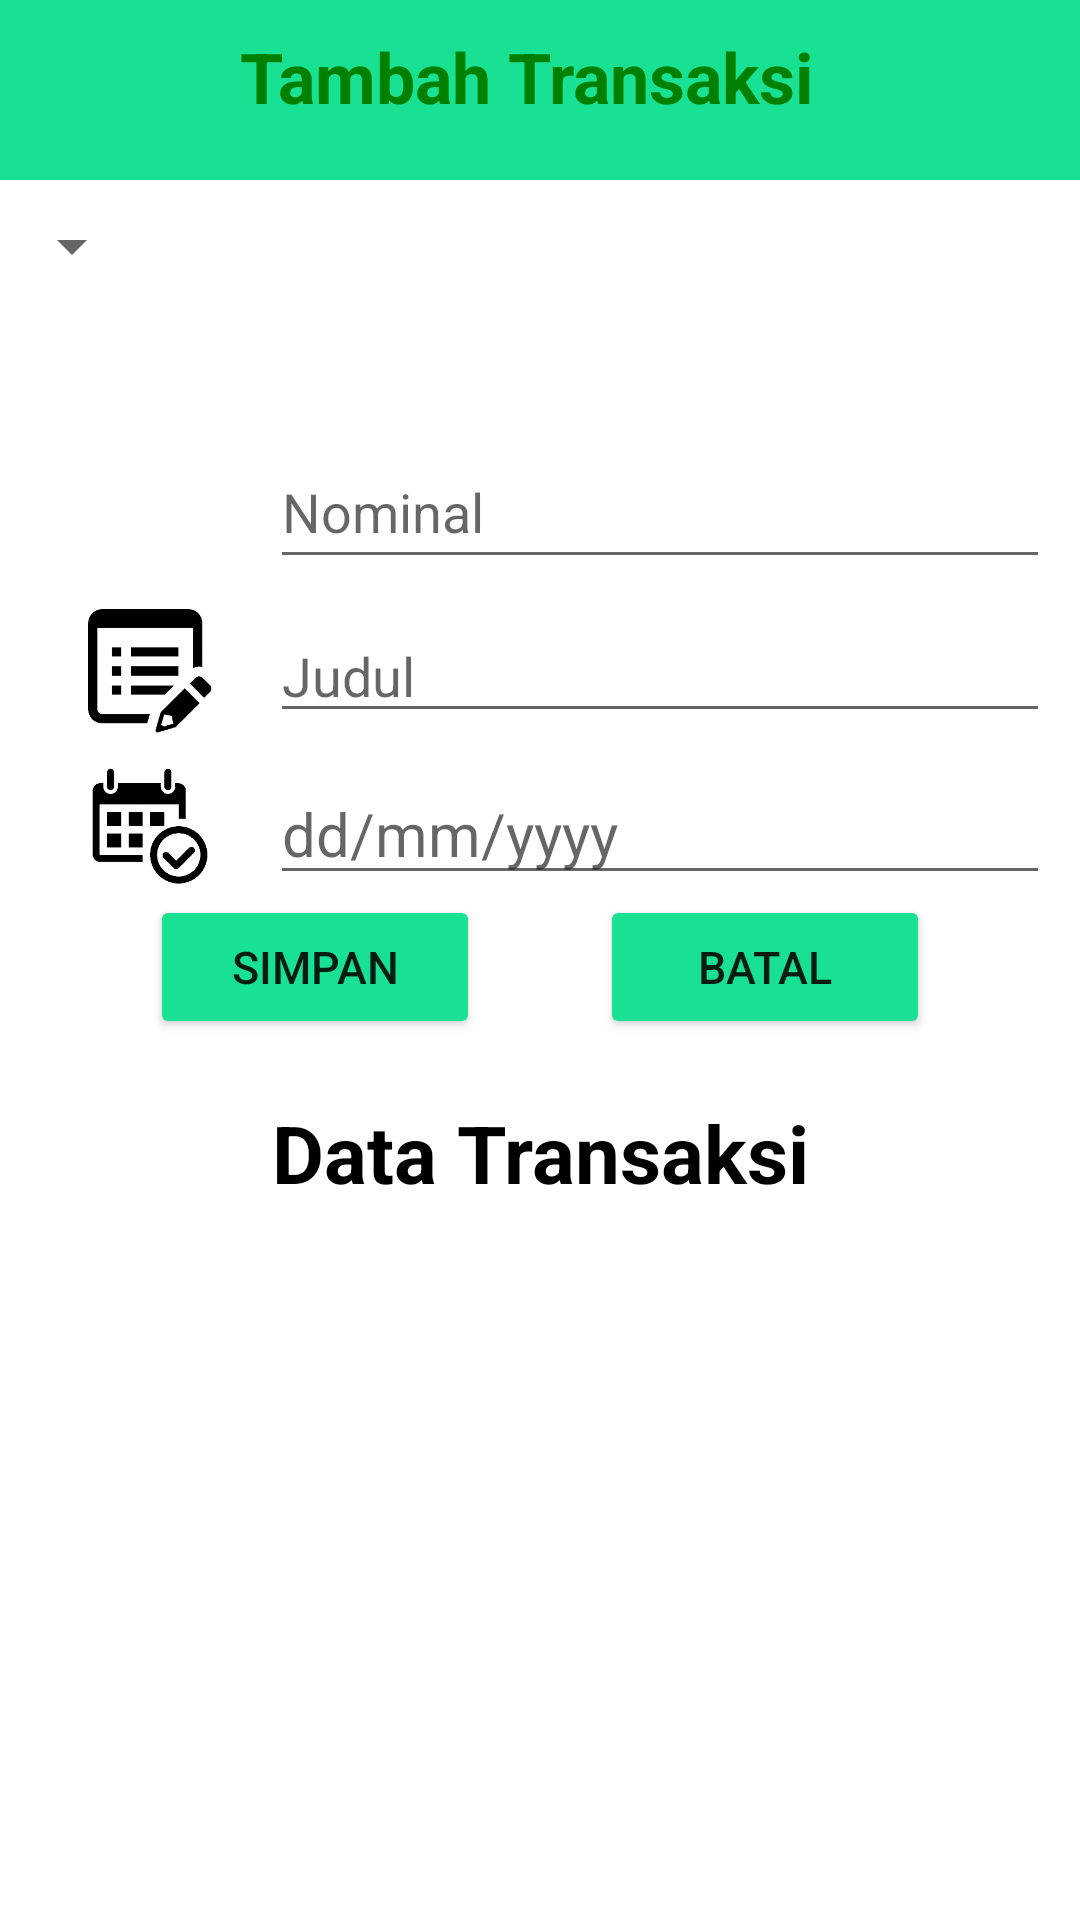

Locate icon controls on the screen. Image size 1080px x 1920px, boxes as Rect(x1, y1, x2, y2).
calendar: Rect(92, 769, 208, 884)
